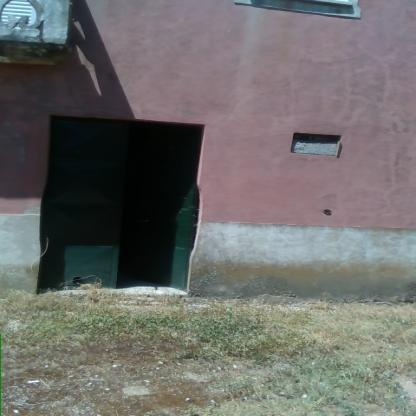open: (38, 109, 213, 299)
